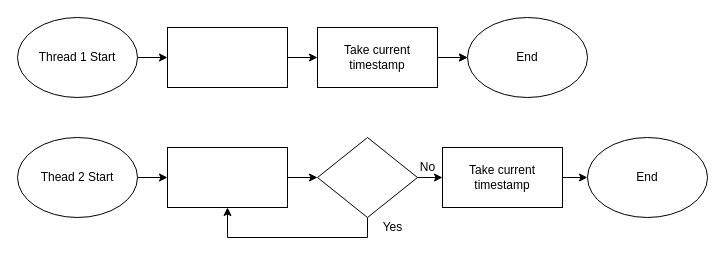
This 725x263 diagram has some shape labels left out. The centre of each missing label's shape, as x and y in pixels:
Insert data entry in the database: [227,57]
Result empty?: [367,177]
Select data entry from the database: [227,177]
